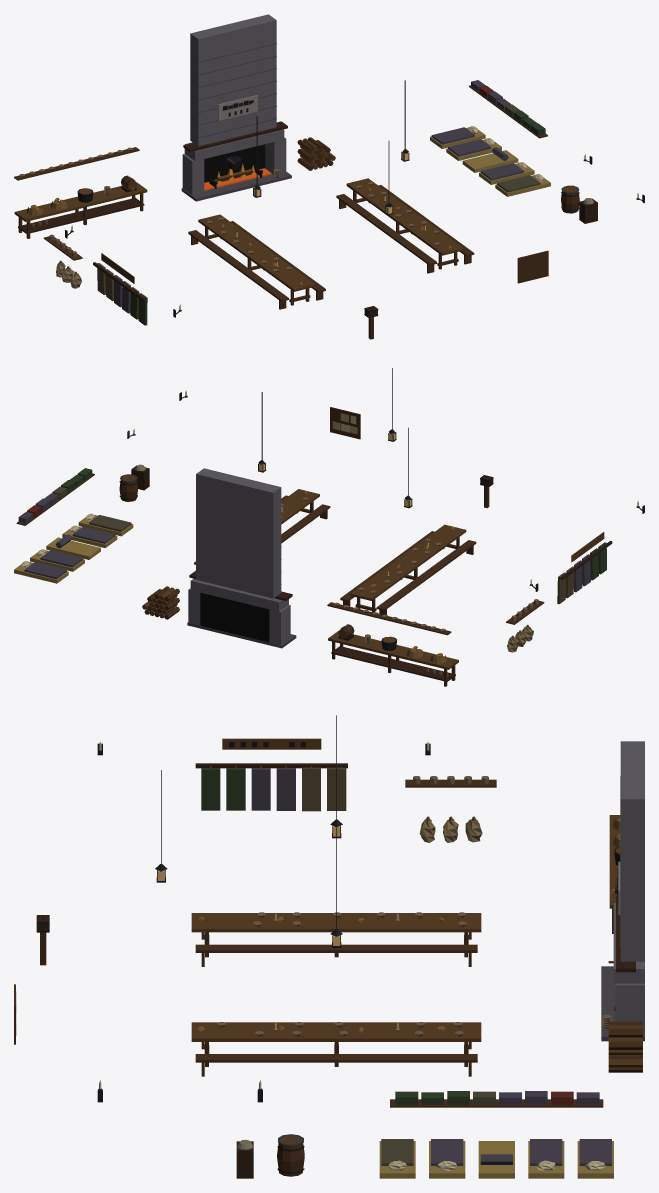
File: wayhouse.glb
3 views of the same model, one above another, from view 1: azimuth 30°, elevation 25°; view 2: azimuth 150°, elevation 25°; view 3: azimuth 270°, elevation 25° (orthographic). The views are drawn at different scales.
Visible parts, largest first — view 1: wayhouse; view 2: wayhouse; view 3: wayhouse.
Boxes of the visible parts, left/top/right/bottom form: wayhouse: left=14, top=14, right=644, bottom=339; wayhouse: left=14, top=368, right=644, bottom=686; wayhouse: left=14, top=715, right=644, bottom=1178.
Size of the model in its own units: 21.59 by 6.83 by 16.55.
